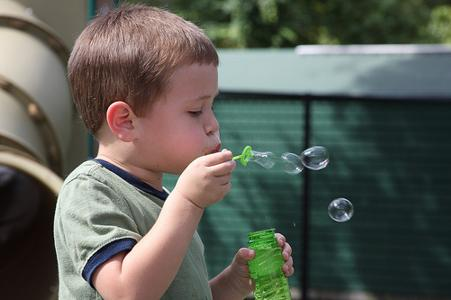person: (53, 7, 300, 300)
